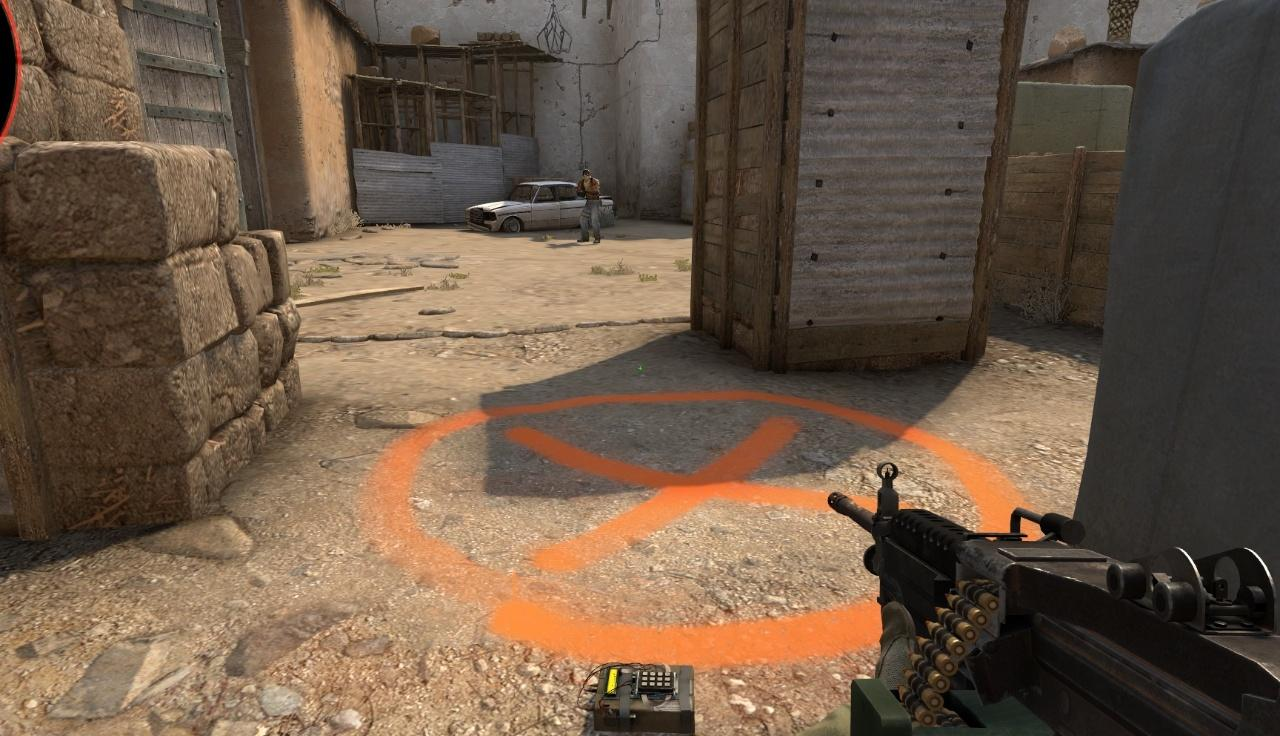rifle: (805, 462, 1280, 736)
tt: (576, 169, 601, 243)
tthead: (583, 170, 591, 181)
